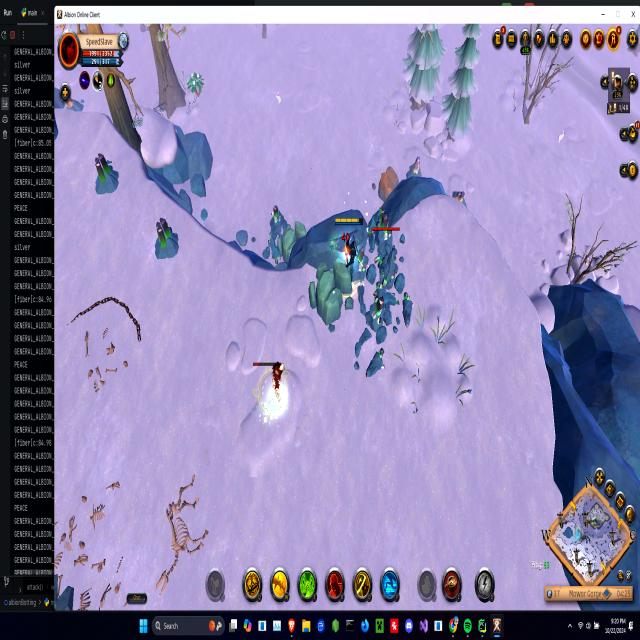hide: (184, 66, 209, 107)
ore: (362, 200, 403, 296), (250, 356, 290, 419), (260, 200, 293, 275)
player: (346, 258, 404, 376), (89, 147, 124, 199), (148, 211, 182, 263), (404, 151, 426, 187), (452, 183, 471, 212)
red: (328, 207, 366, 291)
stone: (260, 389, 282, 429)
tree: (304, 252, 354, 337), (275, 217, 311, 269), (374, 161, 402, 209)
